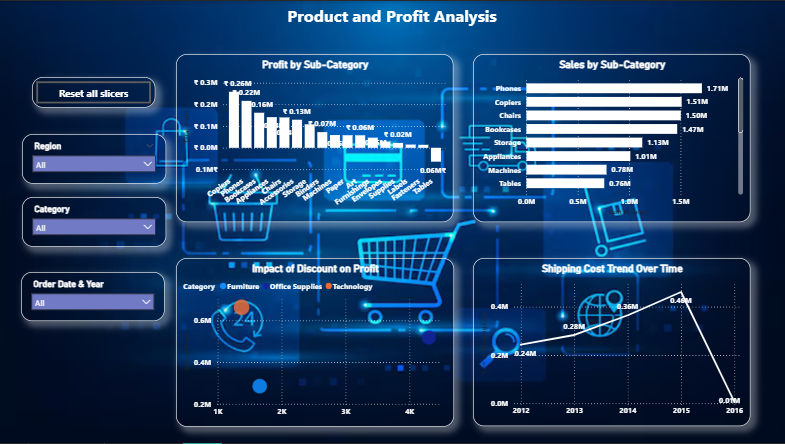

The dashboard page shown, as its layout file describes it:
{"tool":"powerbi","page":{"name":"Page 3","canvas":[1280,720],"ordinal":2},"visuals":[{"type":"textbox","box":[0,0,1280.4,58.6],"z":0},{"type":"clusteredColumnChart","title":"Profit by Sub-Category","fields":{"Y":["Orders.Total Profit"],"Category":["Orders.Sub-Category"]},"box":[288,86,452,274],"z":1000},{"type":"clusteredBarChart","title":"Sales by Sub-Category","fields":{"Category":["Orders.Sub-Category"],"Y":["Sum(Orders.Sales)"]},"box":[772,86,452,274],"z":2000},{"type":"scatterChart","title":"Impact of Discount on Profit","fields":{"X":["Sum(Orders.Discount)"],"Y":["Sum(Orders.Profit)"],"Series":["Orders.Category"],"Size":["Sum(Orders.Sales)"]},"box":[288.1,418.6,452.5,274.6],"z":3000},{"type":"lineChart","title":"Shipping Cost Trend Over Time","fields":{"Category":["Orders.Ship Date.Variation.Date Hierarchy.Year","Orders.Ship Date.Variation.Date Hierarchy.Quarter","Orders.Ship Date.Variation.Date Hierarchy.Month","Orders.Ship Date.Variation.Date Hierarchy.Day"],"Y":["Sum(Orders.Shipping Cost)"]},"box":[772,418,452,274],"z":4000},{"type":"slicer","fields":{"Values":["Orders.Region"]},"box":[37.5,216.7,234.6,81.5],"z":5000},{"type":"slicer","fields":{"Values":["Orders.Category"]},"box":[37.5,319.3,234.6,81.5],"z":6000},{"type":"slicer","fields":{"Values":["Orders.Order Date"]},"box":[36,442,234,80],"z":7000},{"type":"actionButton","box":[54.1,123.6,200.8,50.2],"z":8000}]}

Visuals, with their boxes in screenshot pixels (x1, y1, x2, y2), scaled from the page's 1280x720 canvas onto the 785x444 screenshot:
textbox: <region>0, 0, 784, 36</region>
"Profit by Sub-Category" clusteredColumnChart: <region>177, 53, 454, 222</region>
"Sales by Sub-Category" clusteredBarChart: <region>473, 53, 751, 222</region>
"Impact of Discount on Profit" scatterChart: <region>177, 258, 454, 427</region>
"Shipping Cost Trend Over Time" lineChart: <region>473, 258, 751, 427</region>
slicer - Orders.Region: <region>23, 134, 167, 184</region>
slicer - Orders.Category: <region>23, 197, 167, 247</region>
slicer - Orders.Order Date: <region>22, 273, 166, 322</region>
actionButton: <region>33, 76, 156, 107</region>
